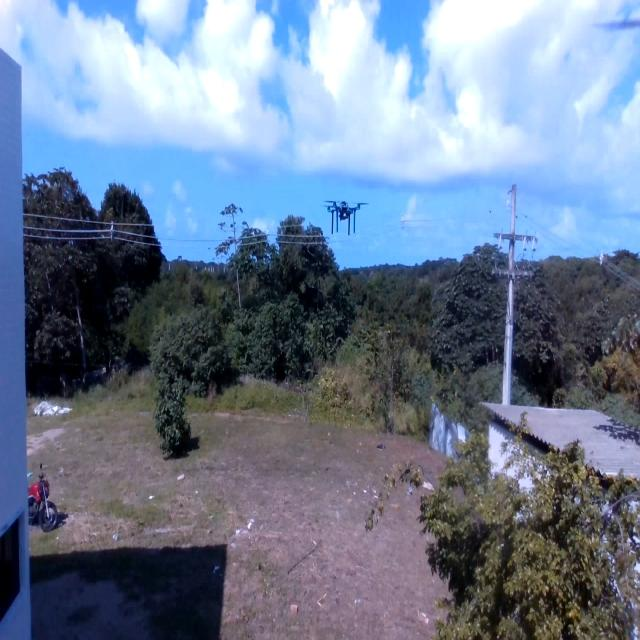-uav-: (314, 185, 378, 246)
